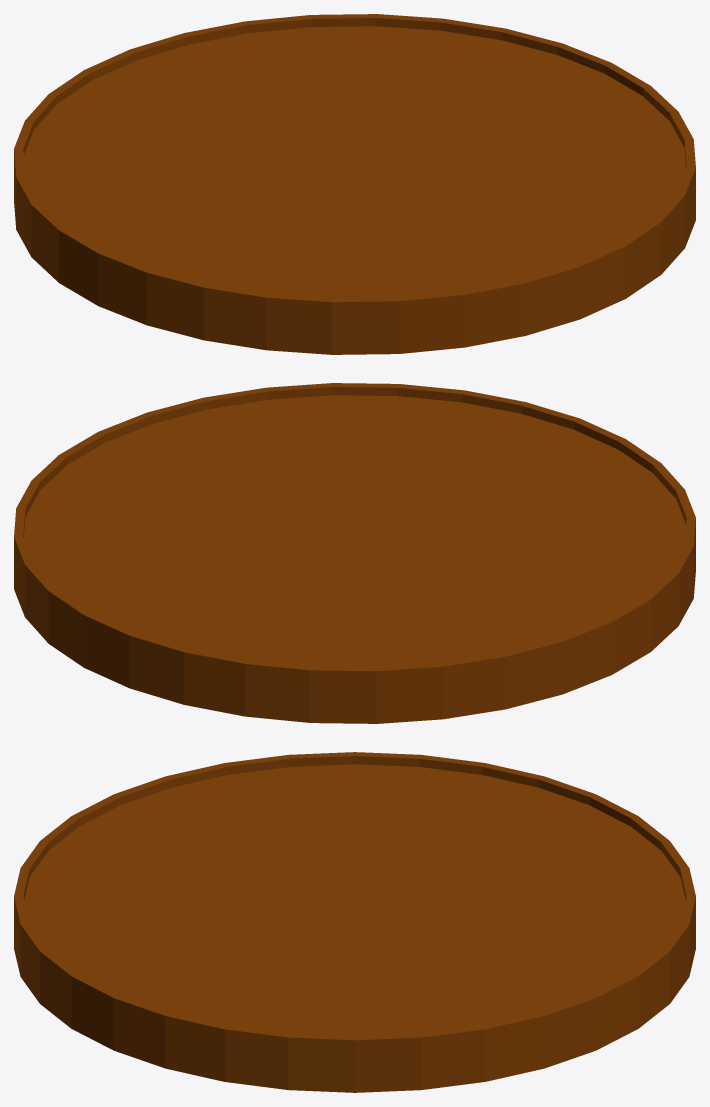
File: BronzeCoin.fbx
3 views of the same model, one above another, from view 1: azimuth 30°, elevation 25°; view 2: azimuth 150°, elevation 25°; view 3: azimuth 270°, elevation 25° (orthographic).
Visible parts, largest first — view 1: Circle; view 2: Circle; view 3: Circle.
Part boxes in pixels (box(x1,y1,x2,y2)): Circle: box(14, 14, 695, 354); Circle: box(14, 383, 695, 723); Circle: box(14, 752, 695, 1092).
Size of the model in its own units: 100 by 8.51 by 100.
